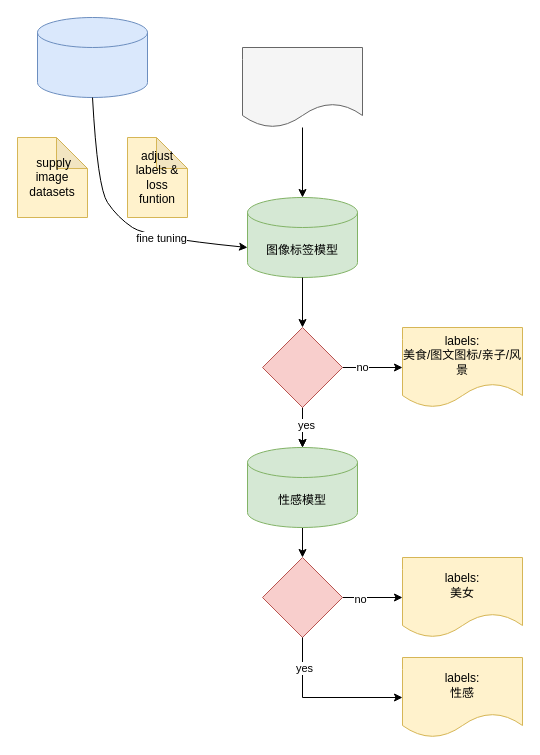
Image size: 540x755. Some labels were removed from this diagram. The shapes that lost their labels are listed below. From the top down, each one's centre as x and y in pixels, then its label:
At point 92,57: "PreTrain Base Model".
At point 302,87: "Input Image".
At point 302,367: "美女".
At point 302,597: "满足“性感” 阈值".
